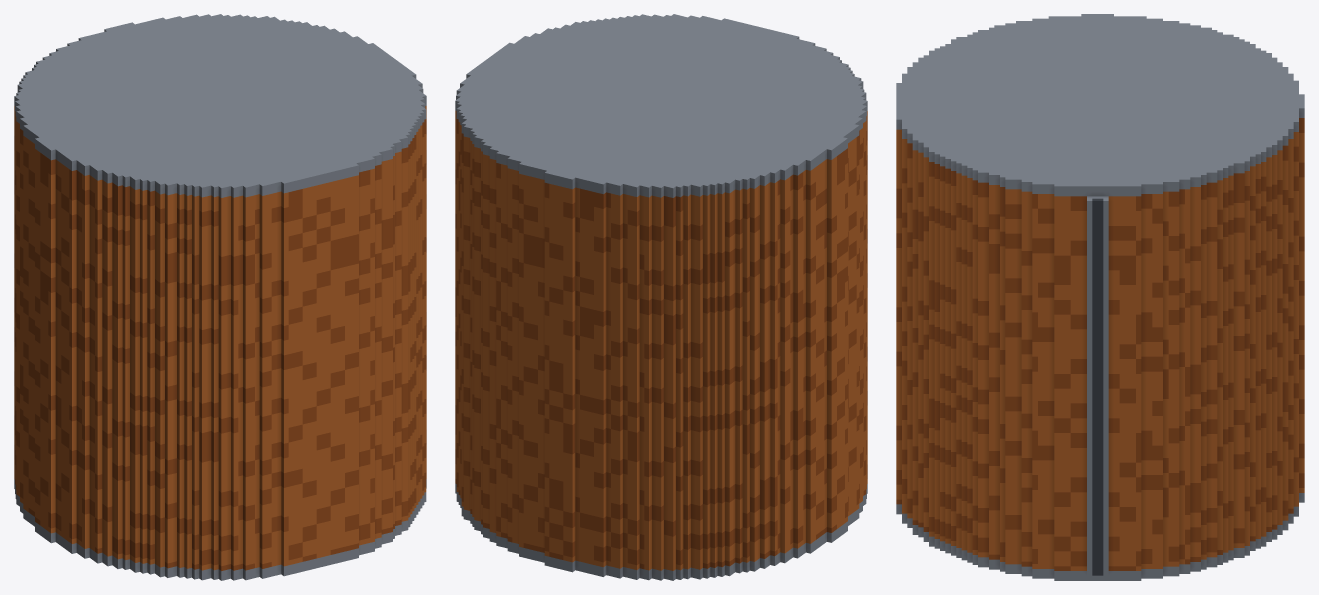
File: tank_hydrolox_l4.glb
The picture shows the model from 3 angles, left to right: view 1: azimuth 30°, elevation 25°; view 2: azimuth 150°, elevation 25°; view 3: azimuth 270°, elevation 25°; orthographic projection.
Parts seen in each view (by area): view 1: tank_hydrolox_l4; view 2: tank_hydrolox_l4; view 3: tank_hydrolox_l4.
Boxes of the visible parts, bbox=[...] form: tank_hydrolox_l4: bbox=[14, 14, 426, 580]; tank_hydrolox_l4: bbox=[455, 14, 867, 580]; tank_hydrolox_l4: bbox=[896, 14, 1304, 580].
Bounding box in the file's own units: 3.85 × 4 × 3.75.
